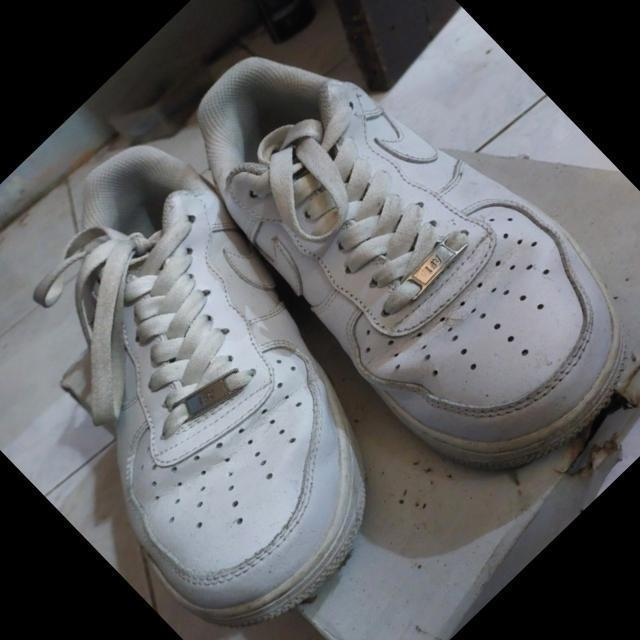nike original air force: (141, 0, 640, 520), (0, 105, 470, 640)
